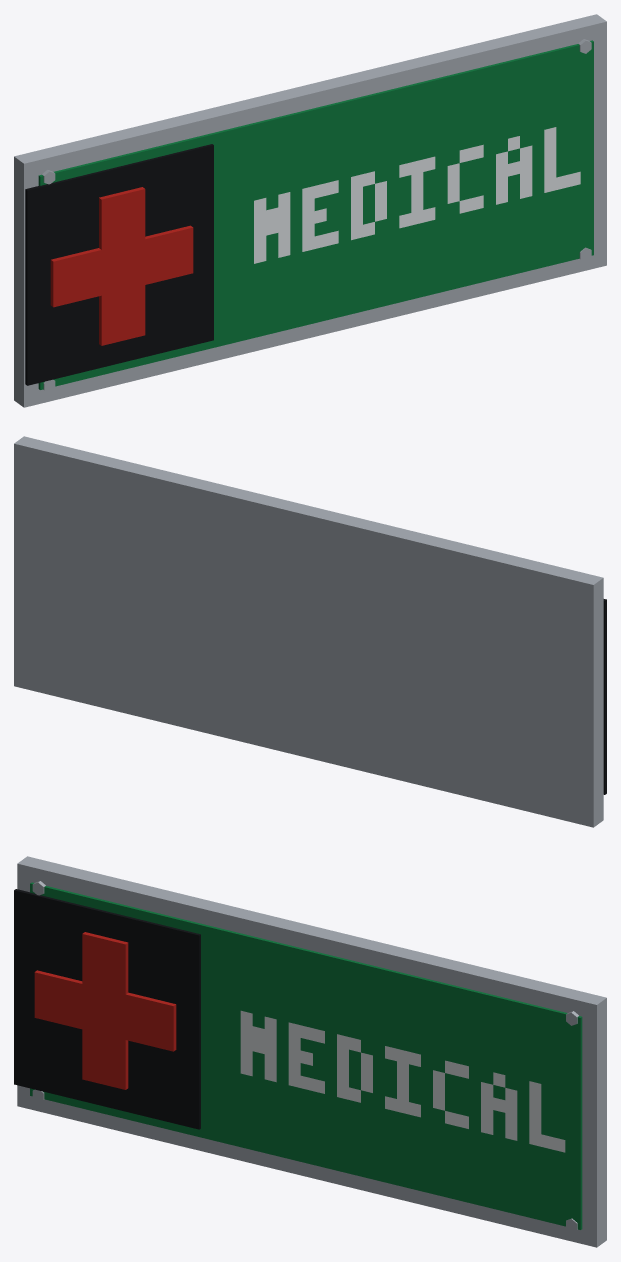
Rendered from sign_dept_medical.glb.
3 renders of one model, top to bottom at view 1: azimuth 30°, elevation 25°; view 2: azimuth 150°, elevation 25°; view 3: azimuth 330°, elevation 25°, orthographic.
Parts seen in each view (by area): view 1: sign_dept_medical; view 2: sign_dept_medical; view 3: sign_dept_medical.
Part boxes in pixels (x1=…): sign_dept_medical: x1=14, y1=14, x2=606, y2=407; sign_dept_medical: x1=14, y1=436, x2=606, y2=827; sign_dept_medical: x1=14, y1=856, x2=606, y2=1247.
Bounding box in the file's own units: 1 × 0.4 × 0.048.
